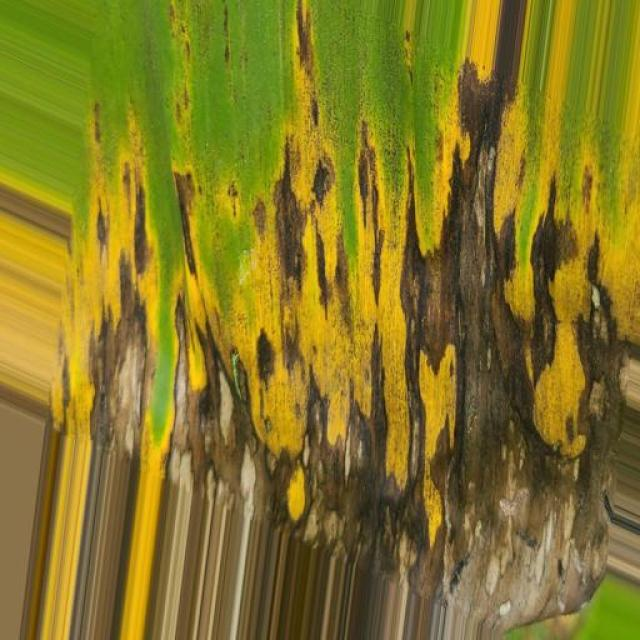Early_rust: (56, 0, 640, 590)
